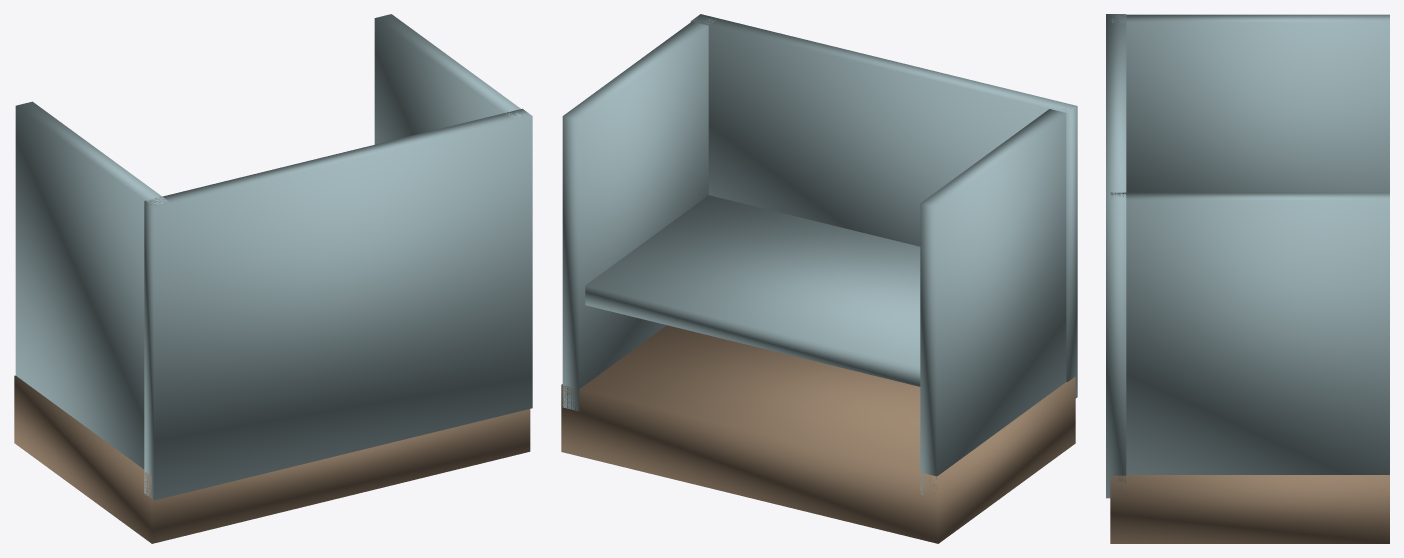
File: pie_display__compact.glb
The picture shows the model from 3 angles, left to right: view 1: azimuth 30°, elevation 25°; view 2: azimuth 150°, elevation 25°; view 3: azimuth 270°, elevation 25°; orthographic projection.
Visible parts, largest first — view 1: world; view 2: world; view 3: world.
Boxes of the visible parts, <box> form: world: <box>14,14,532,543</box>; world: <box>561,14,1077,543</box>; world: <box>1106,14,1389,543</box>.
Size of the model in its own units: 0.6552 by 0.558 by 0.4193.
